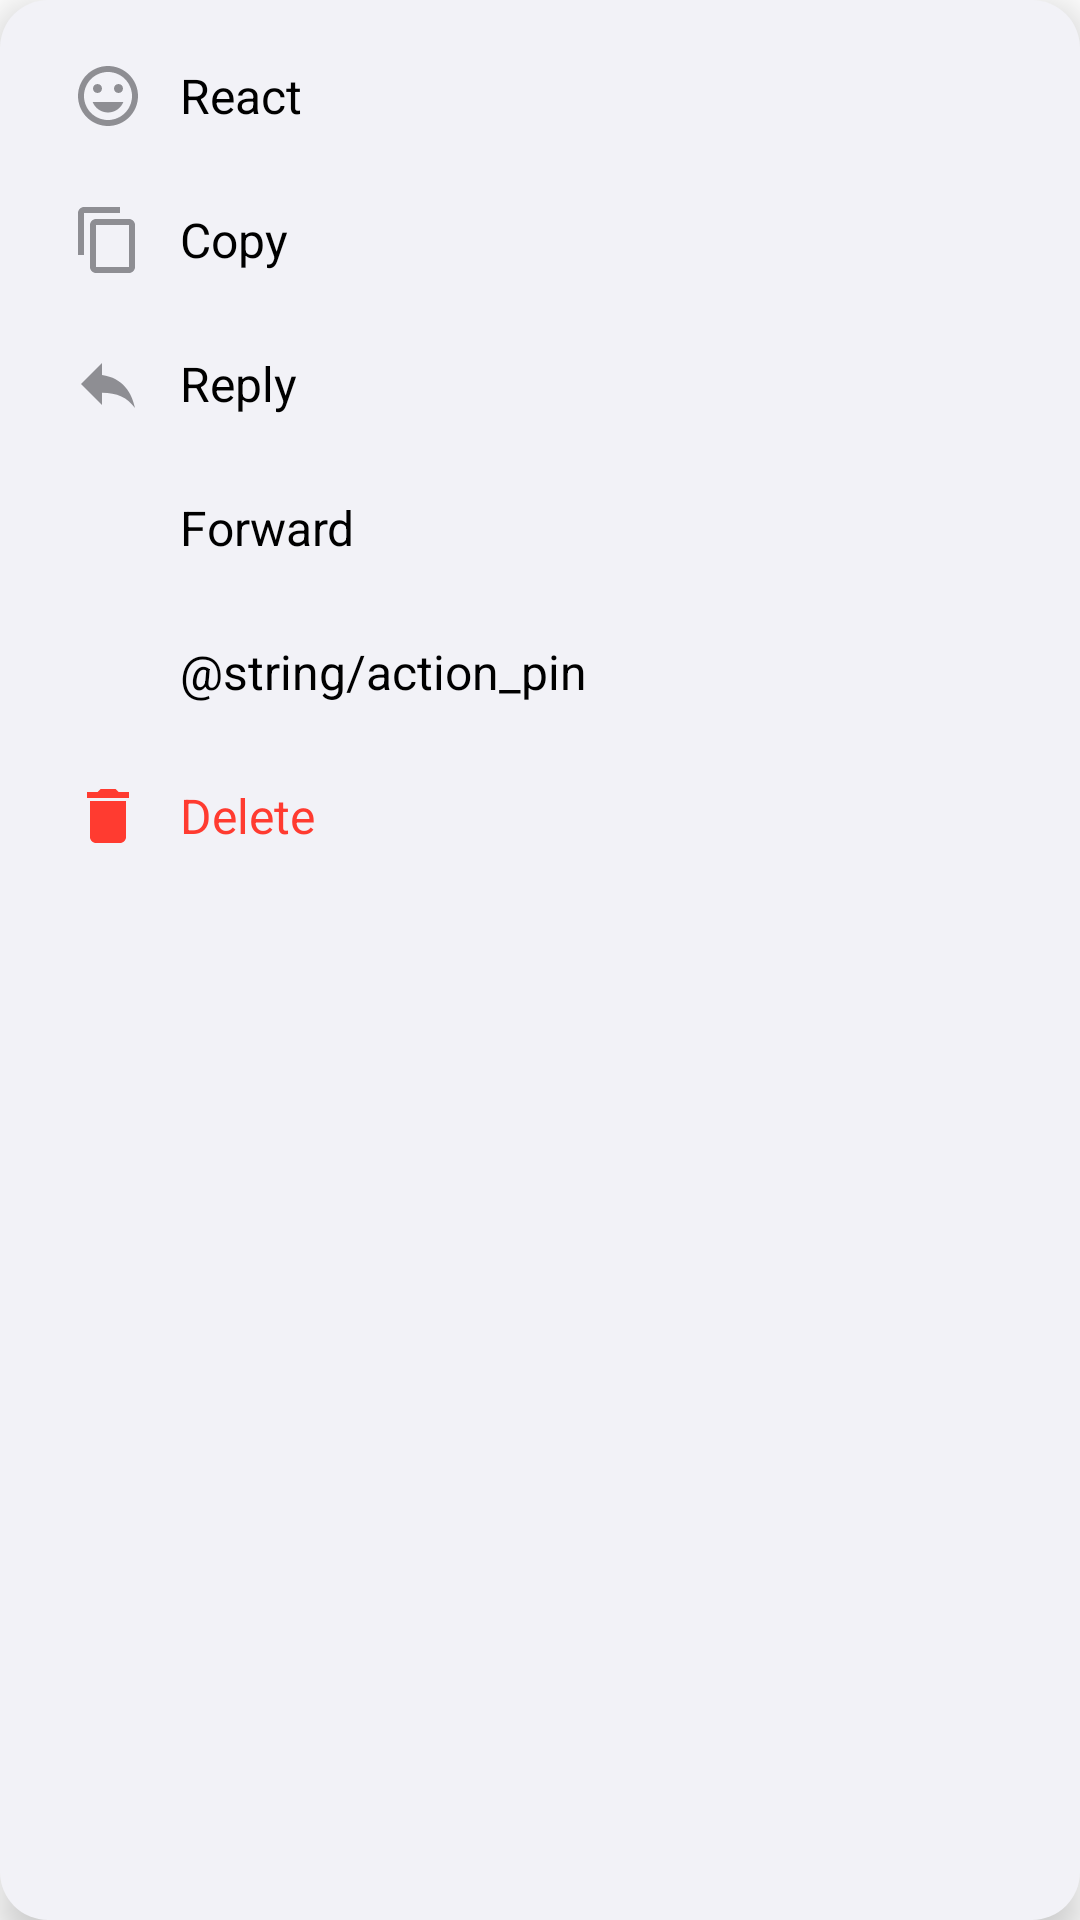

Icons on this 1080 × 1920 Android screen, each with its box as (x1, y1, x2, y2):
emoji: (78, 66, 138, 126)
